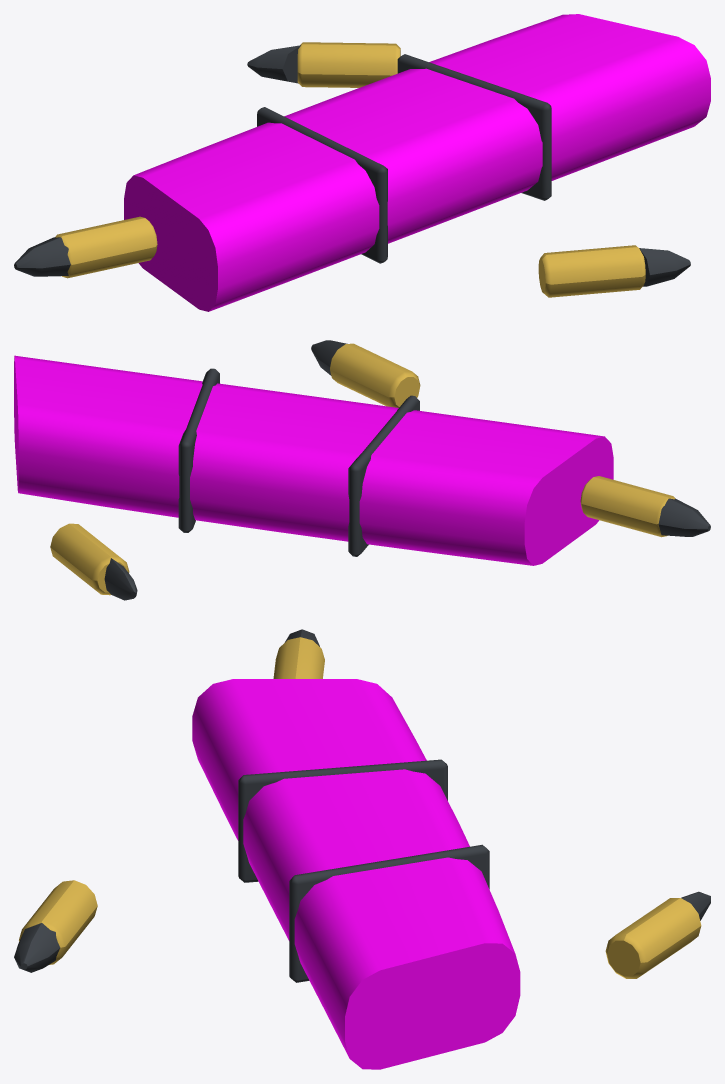
Rendered from objet_chargeur_fusil.glb.
3 views of the same model, one above another, from view 1: azimuth 30°, elevation 25°; view 2: azimuth 150°, elevation 25°; view 3: azimuth 270°, elevation 25° (orthographic). The views are drawn at different scales.
Parts seen in each view (by area): view 1: chargeur_teinte.006, chargeur_laiton.006, chargeur_teinte_sombre.006; view 2: chargeur_teinte.006, chargeur_laiton.006, chargeur_teinte_sombre.006; view 3: chargeur_teinte.006, chargeur_laiton.006, chargeur_teinte_sombre.006.
Part boxes in pixels (<box>): chargeur_teinte.006: <box>124,14,710,311</box>; chargeur_laiton.006: <box>55,42,645,297</box>; chargeur_teinte_sombre.006: <box>14,45,690,286</box>; chargeur_teinte.006: <box>14,355,613,565</box>; chargeur_laiton.006: <box>50,343,675,595</box>; chargeur_teinte_sombre.006: <box>104,340,710,600</box>; chargeur_teinte.006: <box>192,679,520,1069</box>; chargeur_laiton.006: <box>19,637,701,978</box>; chargeur_teinte_sombre.006: <box>14,629,710,982</box>.
Size of the model in its own units: 0.3295 by 0.0425 by 0.2544.
